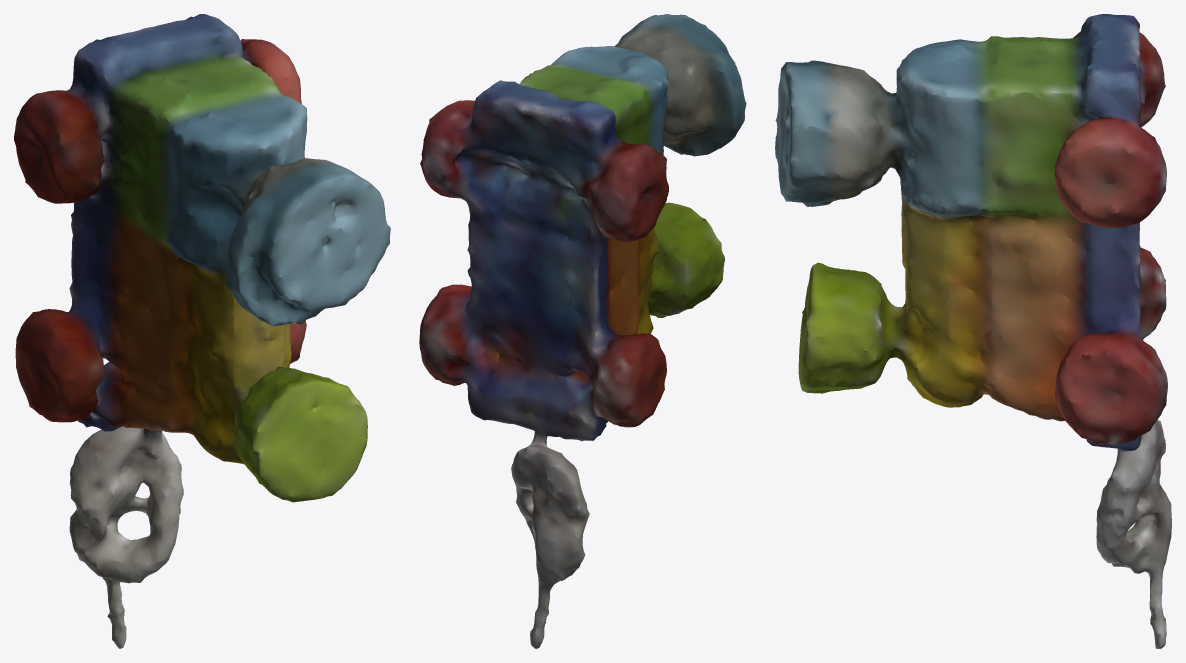
Rendered from train.glb.
The picture shows the model from 3 angles, left to right: view 1: azimuth 30°, elevation 25°; view 2: azimuth 150°, elevation 25°; view 3: azimuth 270°, elevation 25°; orthographic projection. The views are drawn at different scales.
Bounding box in the file's own units: 0.4287 × 0.9944 × 0.5805.
